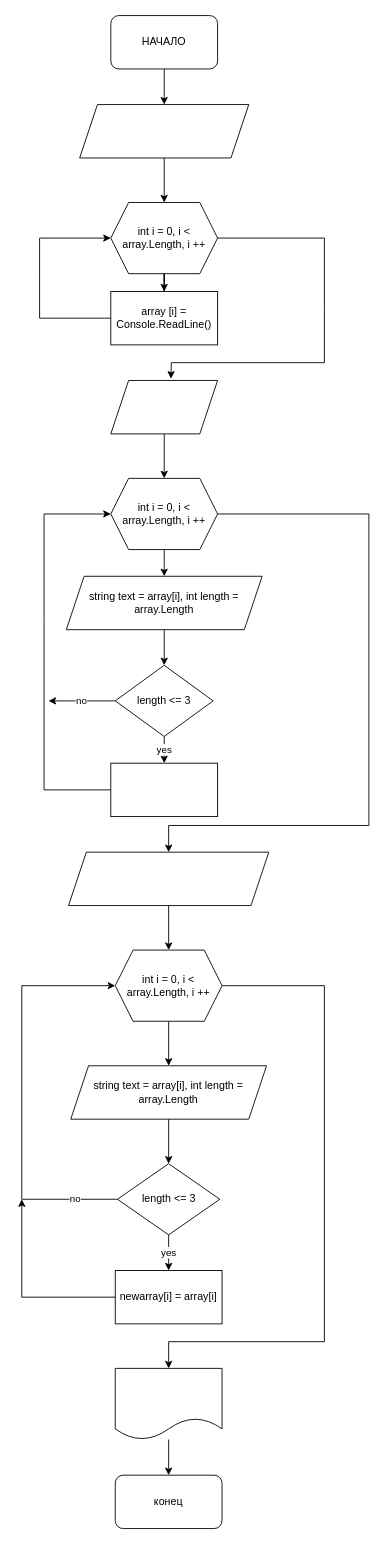
The diagram is 392 pixels wide and 1544 high, and some of its shapes have lost their labels. Each missing label, with the centre of its shape:
"count += 1" belongs at (x=164, y=789).
"int count = 0" belongs at (x=164, y=407).
"newarray" belongs at (x=168, y=1403).
"string [] array = new string [4]" belongs at (x=164, y=131).
"string [] newarray = new string [count]" belongs at (x=168, y=878).
